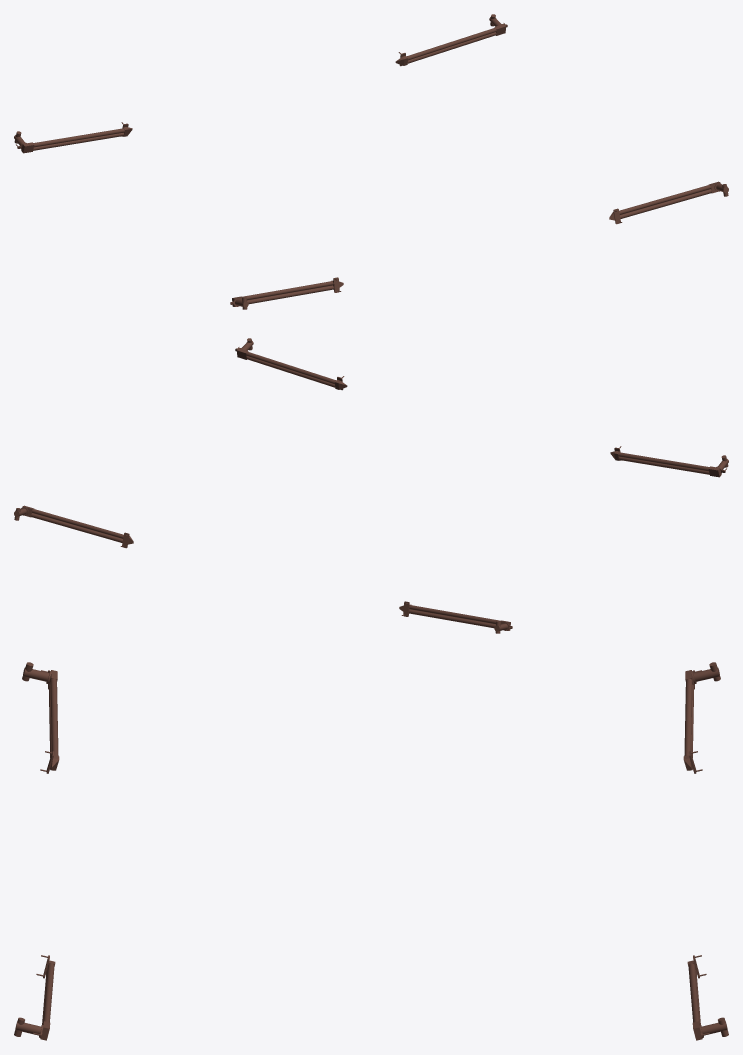
File: WATER_HEATING SYSTEMS__KEEL COOLERS__KC surfs.glb
The picture shows the model from 3 angles, top to bottom: view 1: azimuth 30°, elevation 25°; view 2: azimuth 150°, elevation 25°; view 3: azimuth 270°, elevation 25°; orthographic projection. The views are drawn at different scales.
Visible parts, largest first — view 1: KC surfs; view 2: KC surfs; view 3: KC surfs.
Boxes of the visible parts, left/top/right/bottom form: KC surfs: left=14, top=14, right=728, bottom=309; KC surfs: left=14, top=338, right=728, bottom=633; KC surfs: left=14, top=662, right=728, bottom=1040.
Size of the model in its own units: 4.98 by 0.2328 by 4.13.
